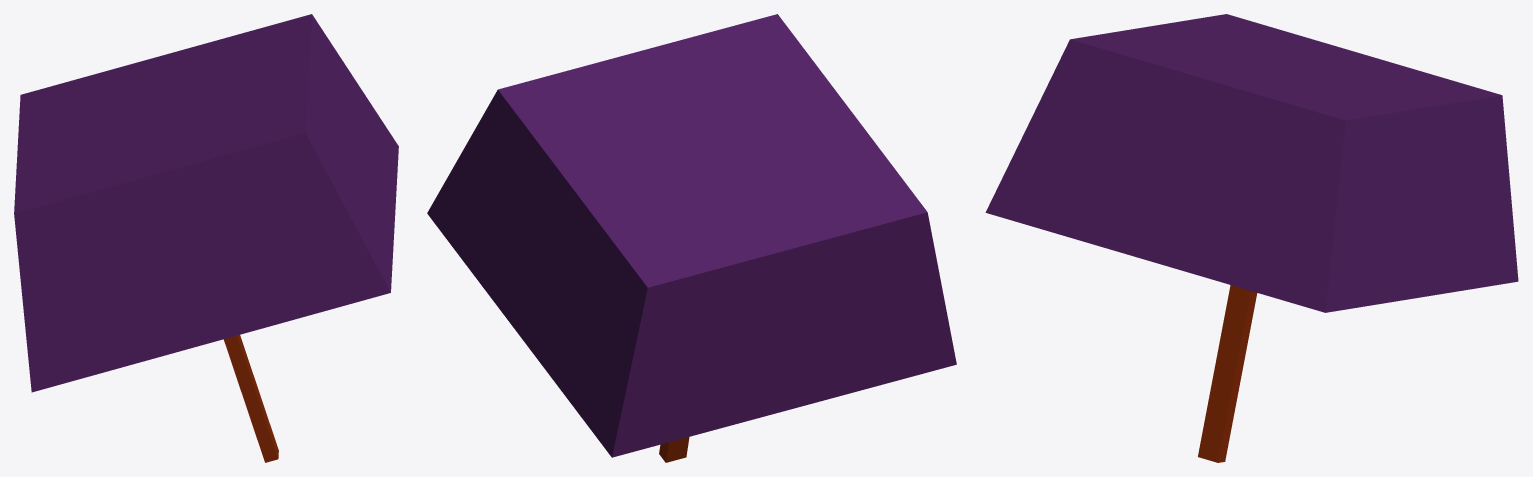
Rendered from mushroom_solo.glb.
3 renders of one model, left to right at view 1: azimuth 30°, elevation 25°; view 2: azimuth 150°, elevation 25°; view 3: azimuth 270°, elevation 25°, orthographic. The views are drawn at different scales.
Parts seen in each view (by area): view 1: Cube.013; view 2: Cube.013; view 3: Cube.013.
Boxes of the visible parts, left/top/right/bottom form: Cube.013: left=14, top=14, right=398, bottom=462; Cube.013: left=427, top=14, right=956, bottom=462; Cube.013: left=985, top=14, right=1518, bottom=462.
Bounding box in the file's own units: 0.1346 × 0.1129 × 0.1347.
